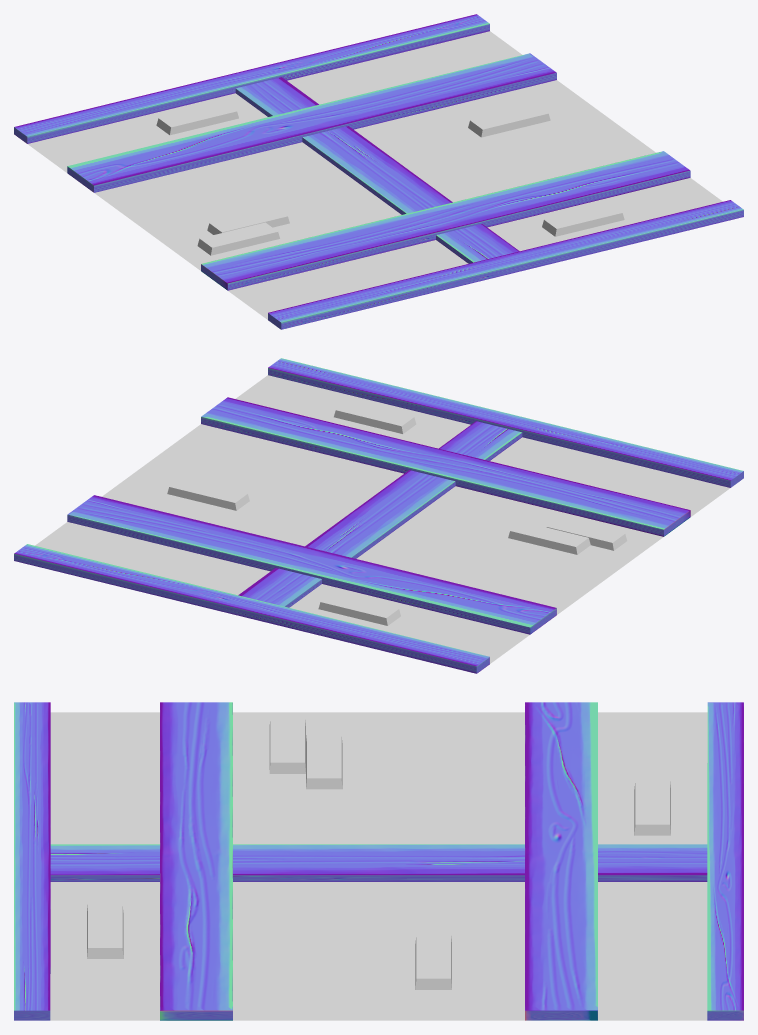
File: SM_Wall_B.fbx
The picture shows the model from 3 angles, top to bottom: view 1: azimuth 30°, elevation 25°; view 2: azimuth 150°, elevation 25°; view 3: azimuth 270°, elevation 25°; orthographic projection. The views are drawn at different scales.
Parts seen in each view (by area): view 1: SM_Wall_B; view 2: SM_Wall_B; view 3: SM_Wall_B.
Boxes of the visible parts, <box> form: SM_Wall_B: <box>14,14,743,329</box>; SM_Wall_B: <box>14,358,743,673</box>; SM_Wall_B: <box>14,702,743,1020</box>.
Size of the model in its own units: 200 by 3 by 200.
